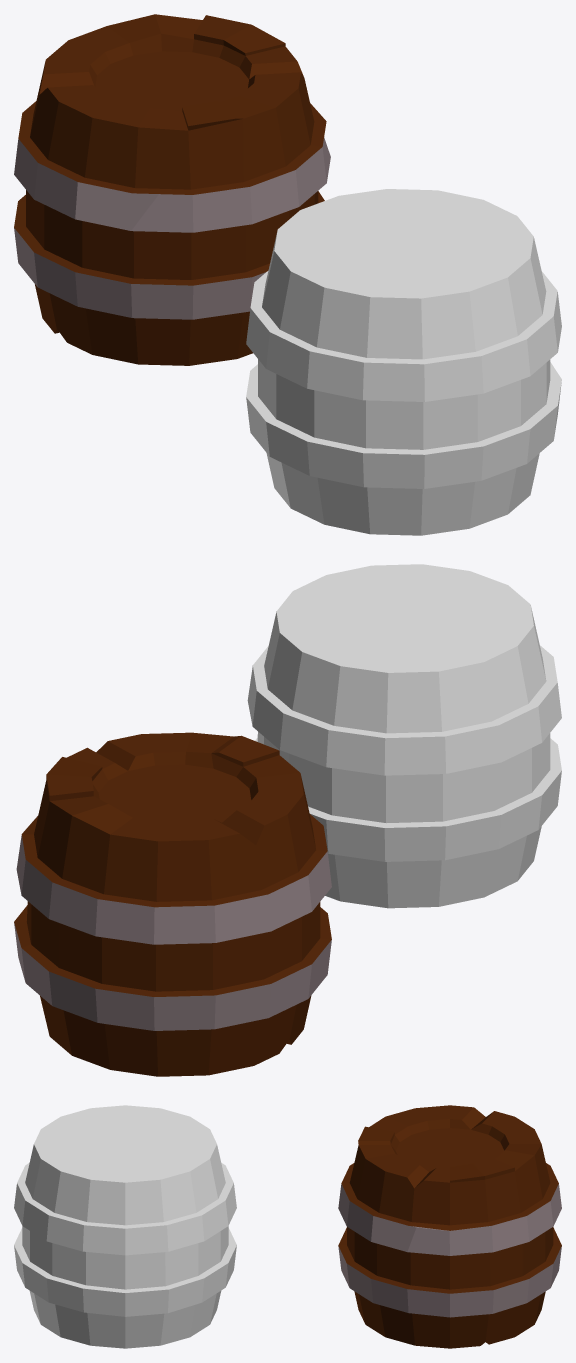
File: BARELL [PH.fbx
The picture shows the model from 3 angles, top to bottom: view 1: azimuth 30°, elevation 25°; view 2: azimuth 150°, elevation 25°; view 3: azimuth 270°, elevation 25°; orthographic projection. The views are drawn at different scales.
Visible parts, largest first — view 1: Cylinder, Cylinder.001, Cylinder.002; view 2: Cylinder, Cylinder.001, Cylinder.002; view 3: Cylinder, Cylinder.001, Cylinder.002.
Boxes of the visible parts, <box> form: Cylinder: <box>246,189,561,535</box>; Cylinder.001: <box>14,14,326,365</box>; Cylinder.002: <box>14,137,330,319</box>; Cylinder: <box>247,564,561,908</box>; Cylinder.001: <box>14,732,331,1076</box>; Cylinder.002: <box>14,816,331,1030</box>; Cylinder: <box>14,1105,236,1348</box>; Cylinder.001: <box>338,1105,561,1348</box>; Cylinder.002: <box>338,1184,561,1317</box>.
Size of the model in its own units: 247 by 205 by 598.
